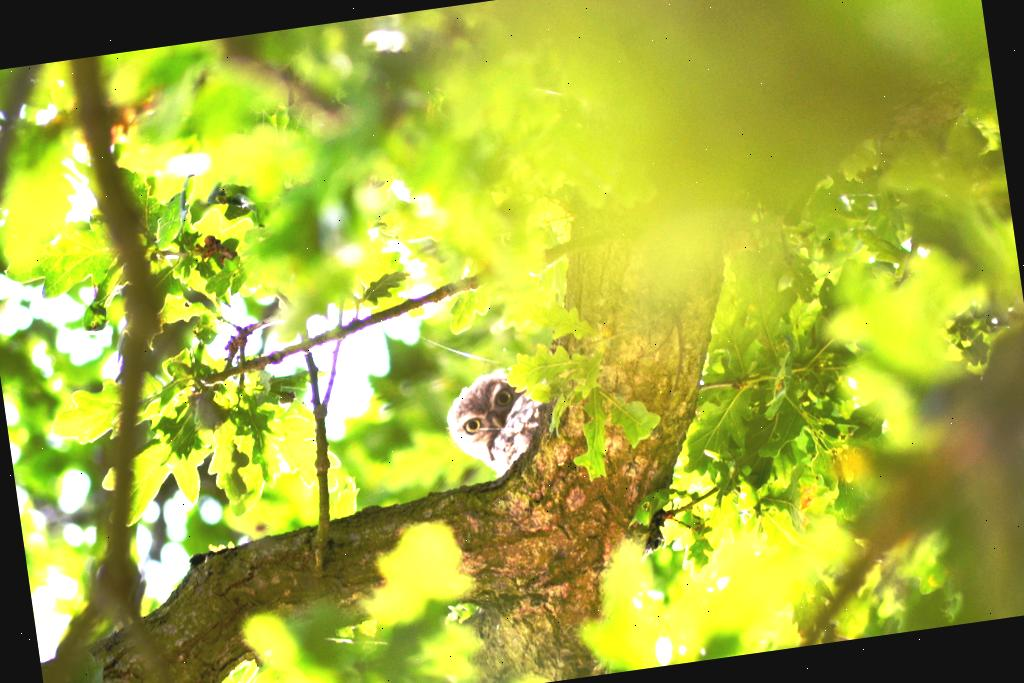Owl: (432, 362, 548, 481)
